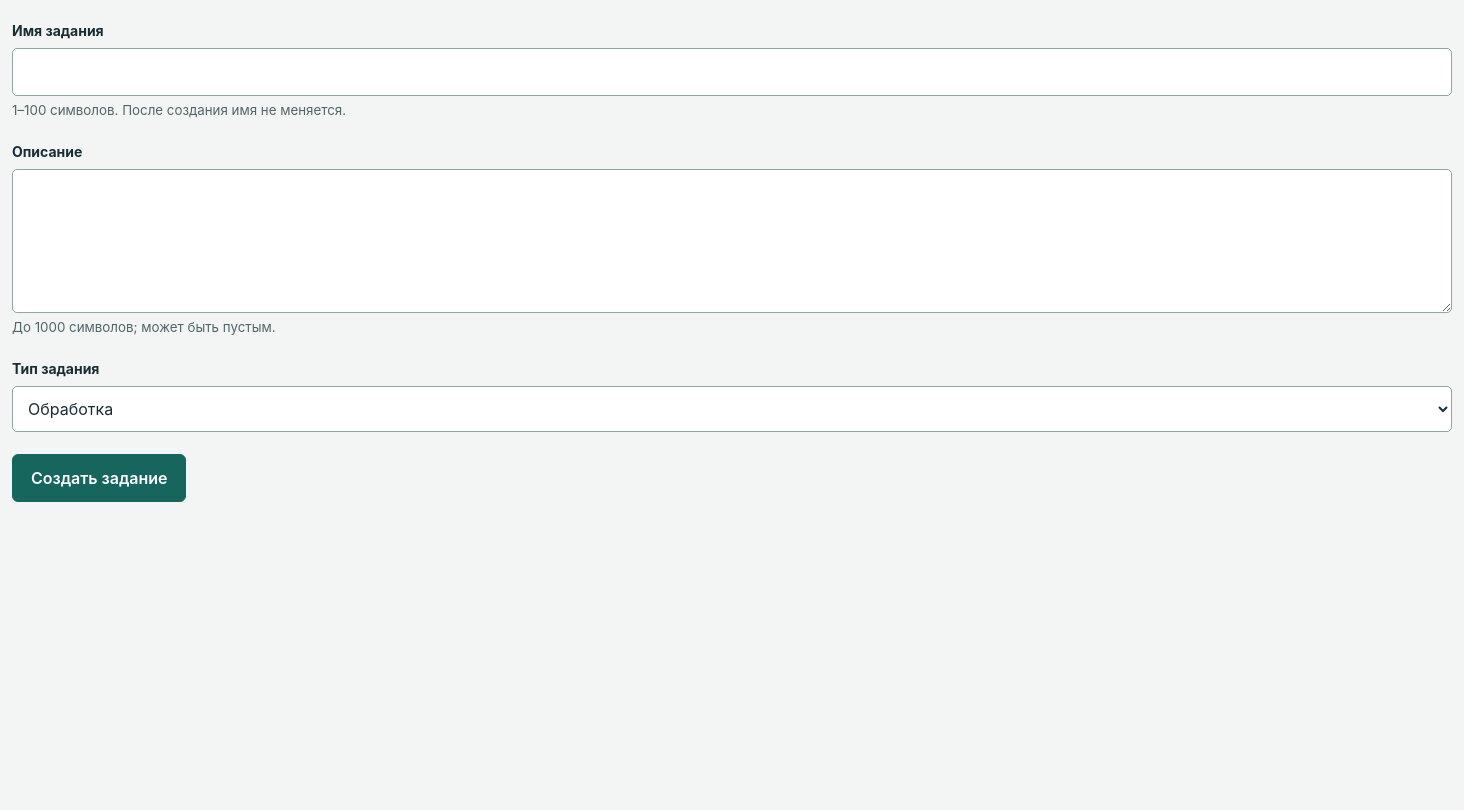
Test: F-T015: ошибка поля доступна по подписи, запрос не отправляется
The width and height of the screenshot is (1464, 810).
In the field labelled "Имя задания": (732, 72) [12,48,1452,96], type "A B"
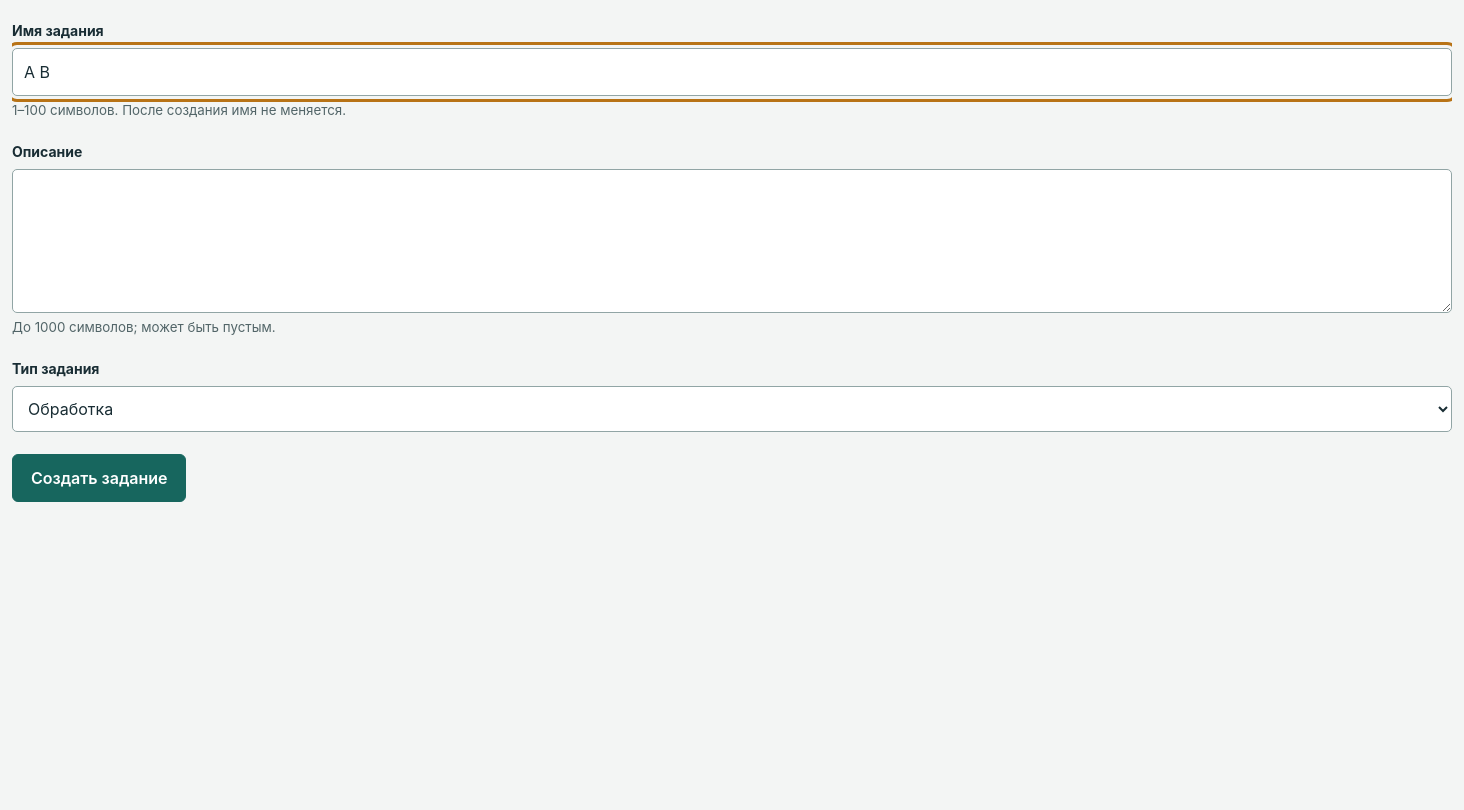
Click the button "Создать задание": (99, 478) [12,454,186,502]
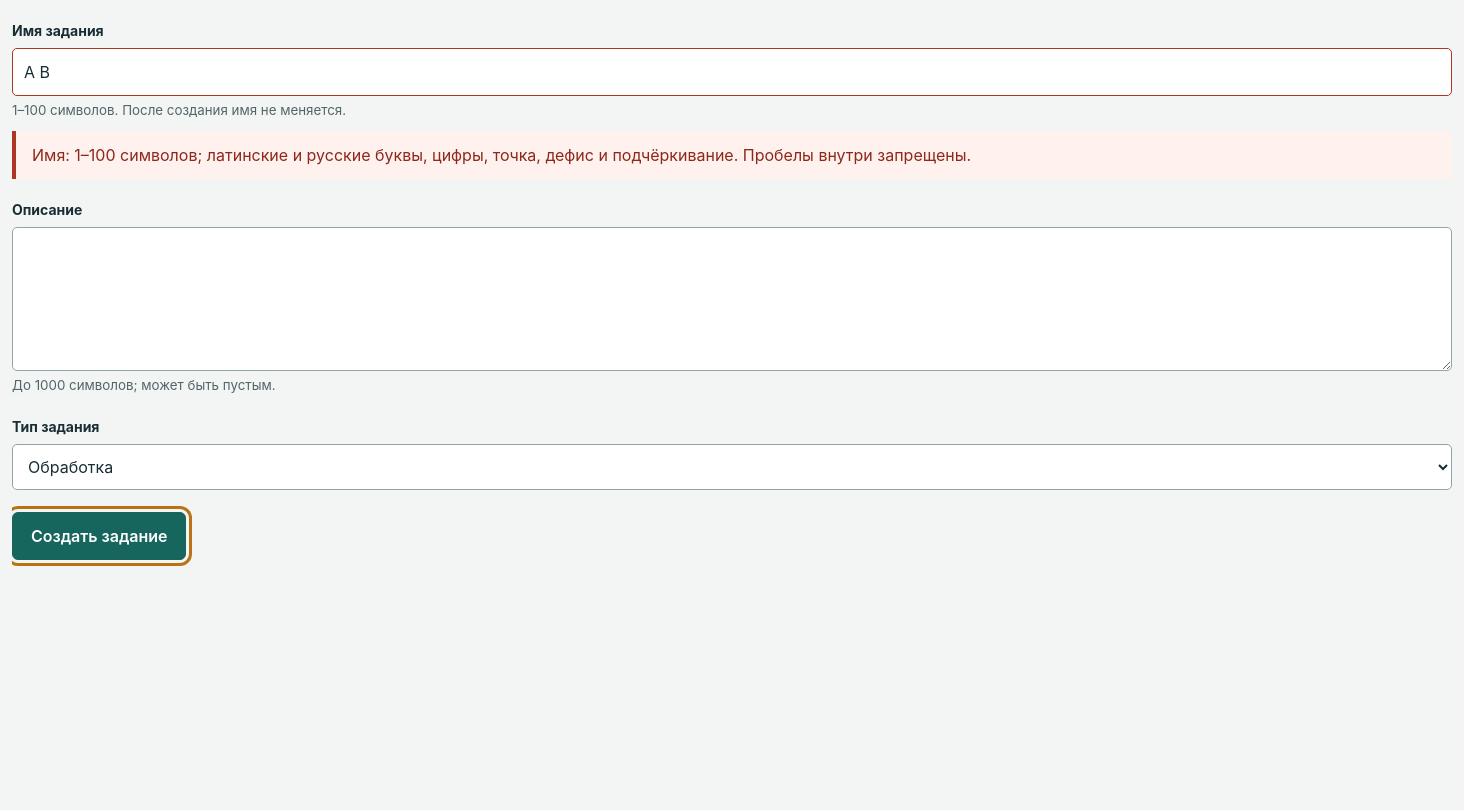
expect the message shows "Пробелы внутри запрещены": met, box [32,145,971,165]
